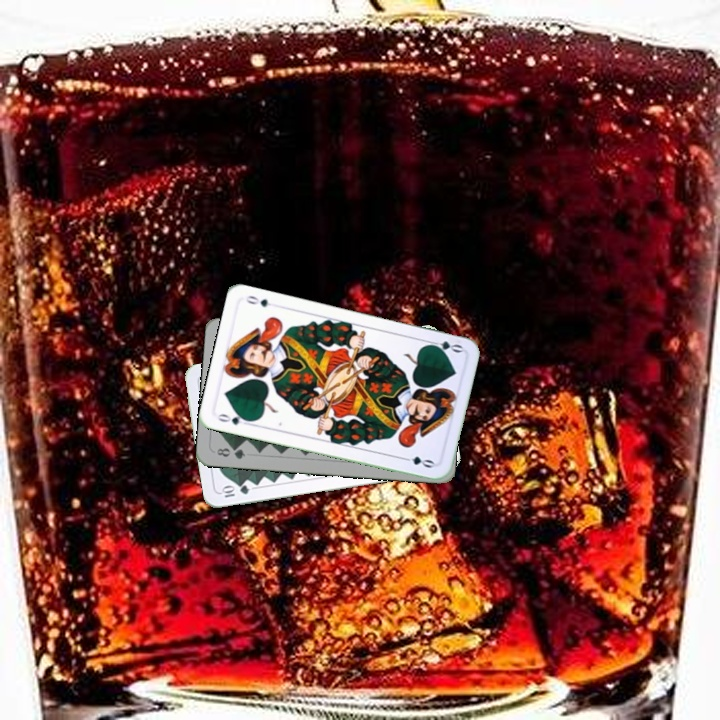G10: (218, 481, 252, 500)
G8: (212, 443, 248, 462)
GO: (423, 336, 465, 355), (214, 410, 254, 428)
